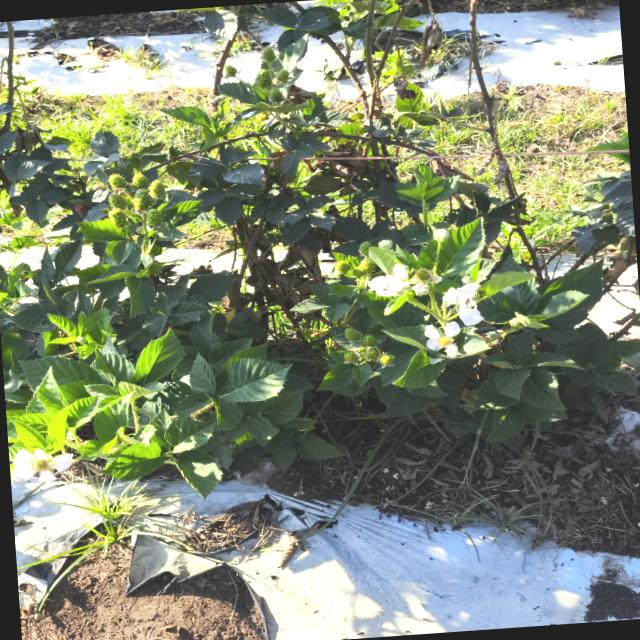boton: (433, 228, 449, 242), (377, 239, 393, 249)
flor: (424, 322, 460, 357), (369, 275, 408, 296), (443, 283, 478, 304), (458, 305, 483, 325)
